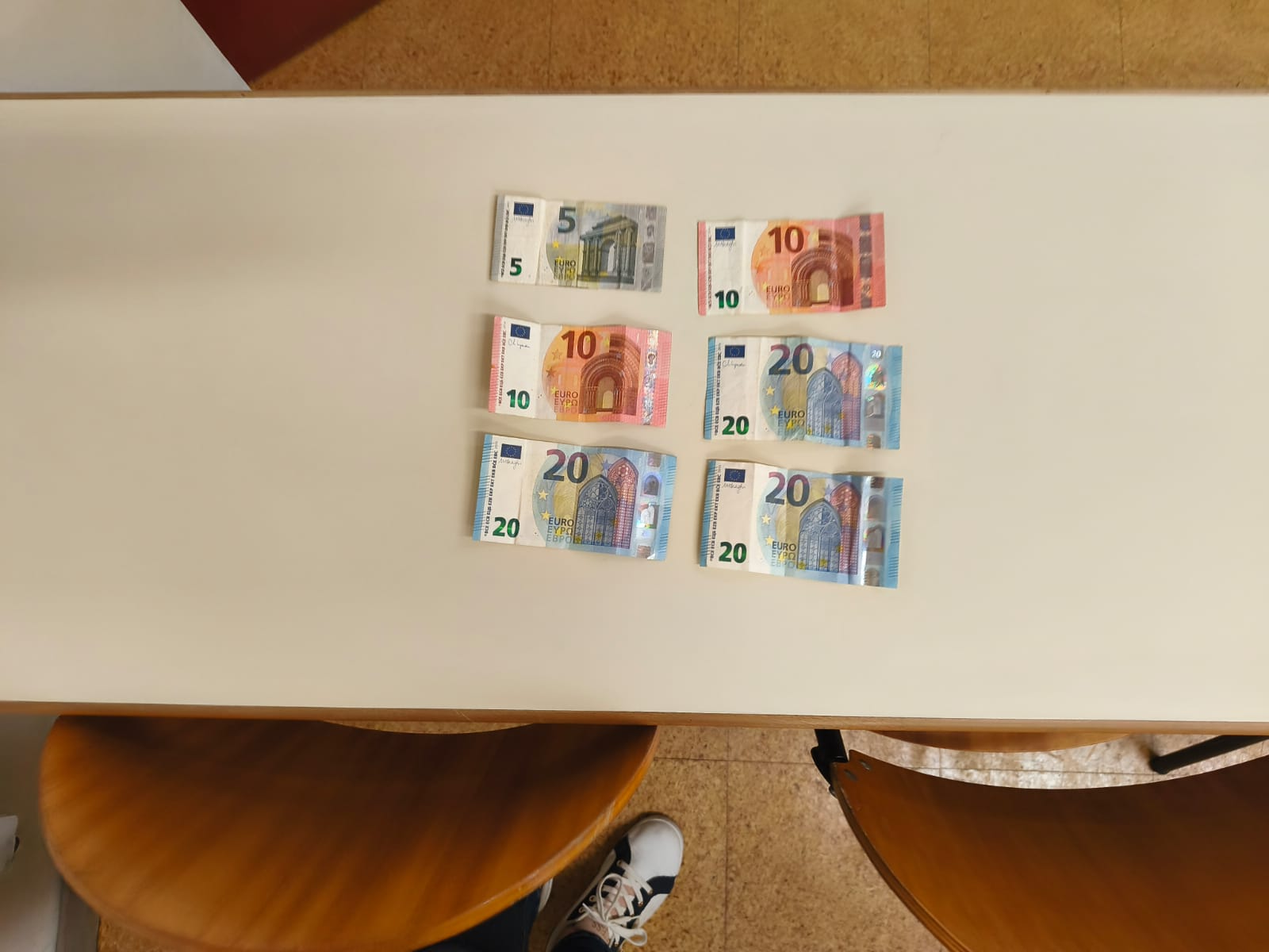Nota de 10€: (692, 218, 887, 320), (492, 312, 676, 419)
Nota de 20€: (705, 455, 913, 572), (705, 328, 909, 444), (479, 429, 683, 543)
Nota de 5€: (491, 190, 673, 284)
